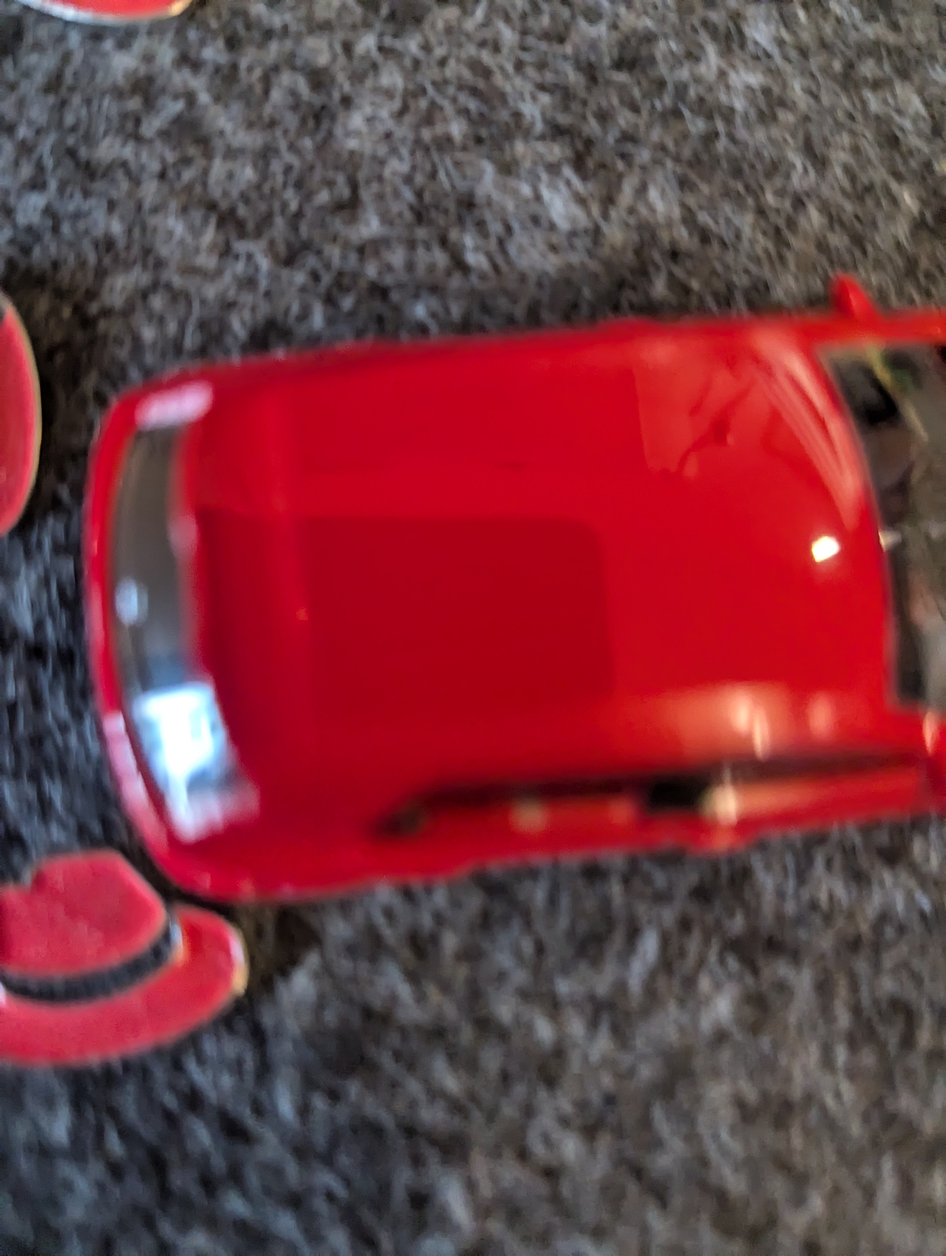Car: (51, 268, 946, 939)
Red-Hat: (0, 830, 294, 1065)
